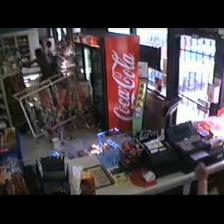person: (33, 49, 53, 79), (45, 41, 54, 63)
